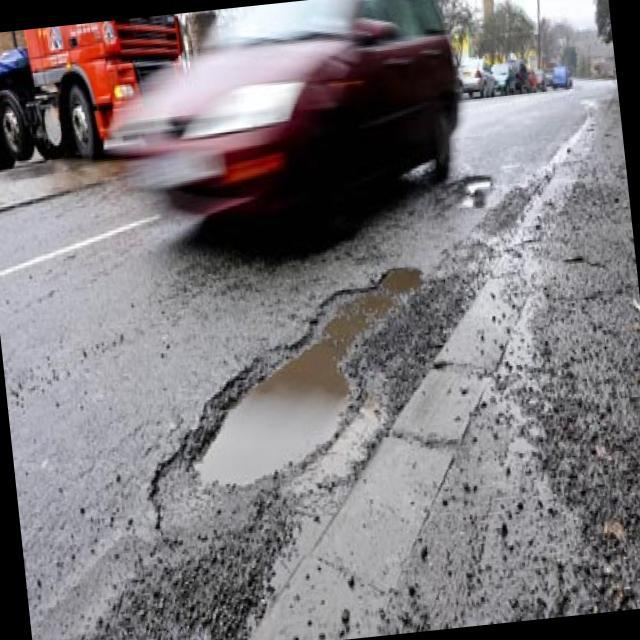Pothole: (171, 264, 468, 556), (460, 168, 496, 211)
